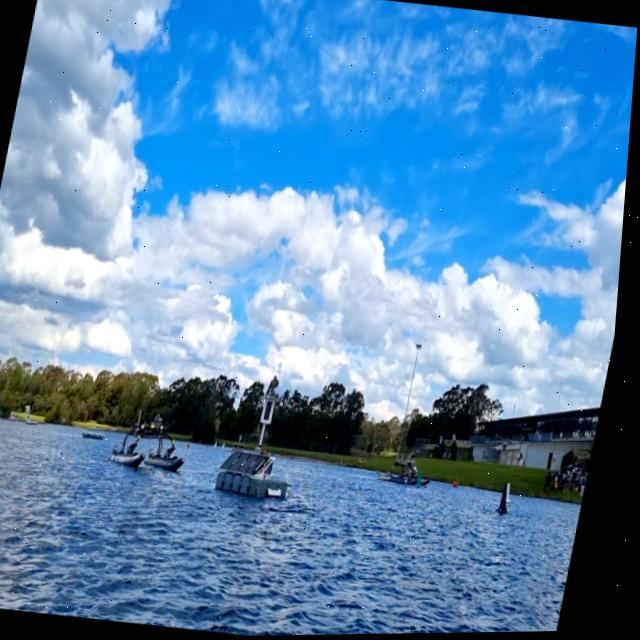led: (268, 400, 279, 423)
